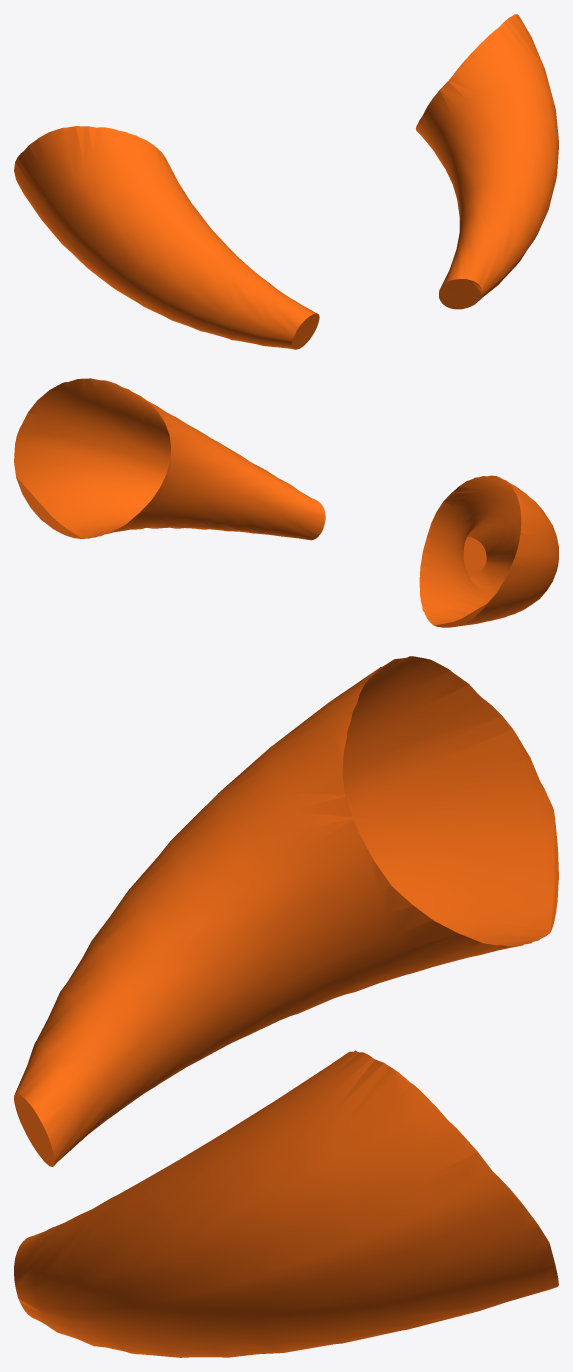
The model's file is BUG HORNS.fbx.
3 renders of one model, top to bottom at view 1: azimuth 30°, elevation 25°; view 2: azimuth 150°, elevation 25°; view 3: azimuth 270°, elevation 25°, orthographic. The views are drawn at different scales.
Parts seen in each view (by area): view 1: Object_5.004, Object_5.001; view 2: Object_5.001, Object_5.004; view 3: Object_5.004, Object_5.001.
Part boxes in pixels (x1,y1,x2,y2): Object_5.004: (14,126,319,349); Object_5.001: (416,14,558,309); Object_5.001: (14,378,325,540); Object_5.004: (419,475,558,627); Object_5.004: (14,656,558,1166); Object_5.001: (14,1050,558,1357).
Bounding box in the file's own units: 31.34 × 11.57 × 15.12.
